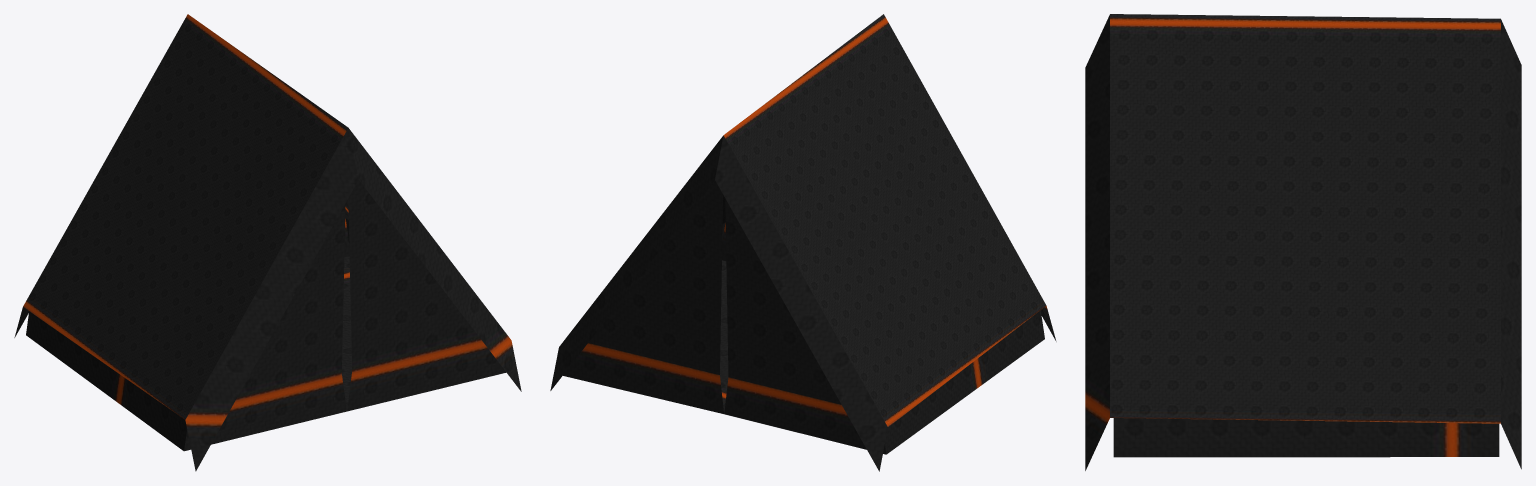
Rendered from tent.obj.
3 renders of one model, left to right at view 1: azimuth 30°, elevation 25°; view 2: azimuth 150°, elevation 25°; view 3: azimuth 270°, elevation 25°, orthographic. The views are drawn at different scales.
Parts seen in each view (by area): view 1: Tent_Plane.002; view 2: Tent_Plane.002; view 3: Tent_Plane.002.
Boxes of the visible parts, x1=… form: Tent_Plane.002: x1=14, y1=14, x2=521, y2=471; Tent_Plane.002: x1=550, y1=14, x2=1056, y2=471; Tent_Plane.002: x1=1085, y1=14, x2=1521, y2=470.
Bounding box in the file's own units: 2.4 × 2.07 × 2.27.
Materials: 1 (1 with a texture image).
